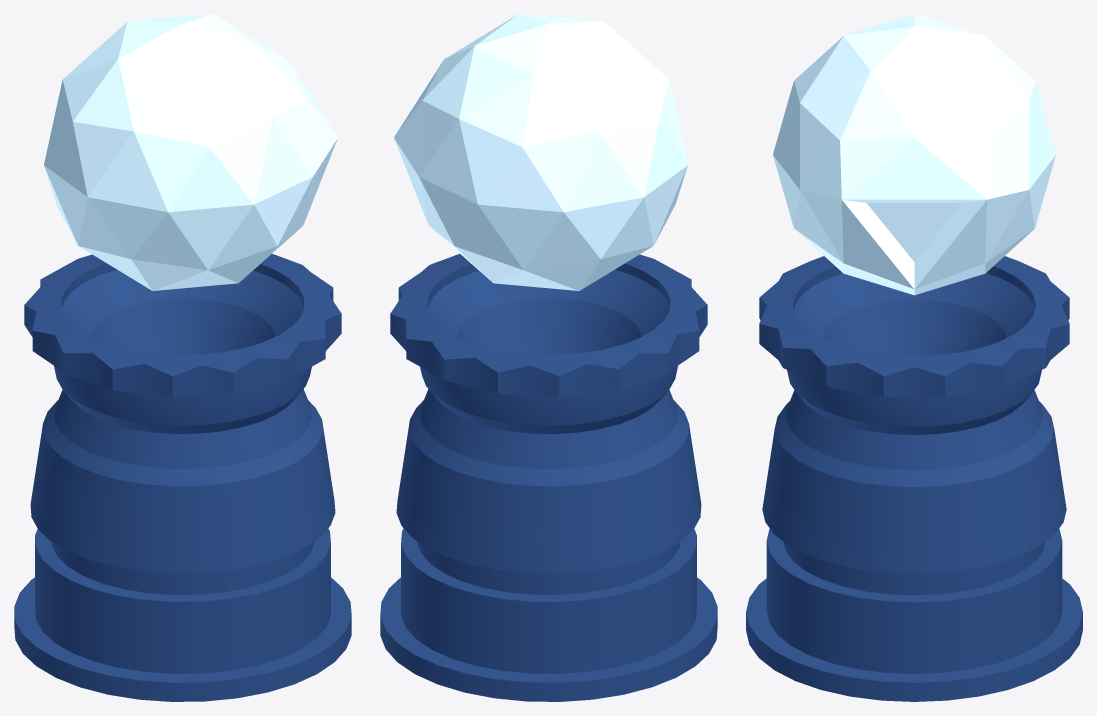
File: magic_turret.glb
The picture shows the model from 3 angles, left to right: view 1: azimuth 30°, elevation 25°; view 2: azimuth 150°, elevation 25°; view 3: azimuth 270°, elevation 25°; orthographic projection.
Parts seen in each view (by area): view 1: Turret Base, Turret Head; view 2: Turret Base, Turret Head; view 3: Turret Base, Turret Head.
Boxes of the visible parts, left/top/right/bottom form: Turret Base: left=14, top=254, right=351, bottom=701; Turret Head: left=44, top=14, right=337, bottom=290; Turret Base: left=380, top=254, right=717, bottom=701; Turret Head: left=394, top=14, right=687, bottom=290; Turret Base: left=746, top=256, right=1082, bottom=701; Turret Head: left=773, top=14, right=1055, bottom=295.
Bounding box in the file's own units: 1.13 × 2.24 × 1.13.
